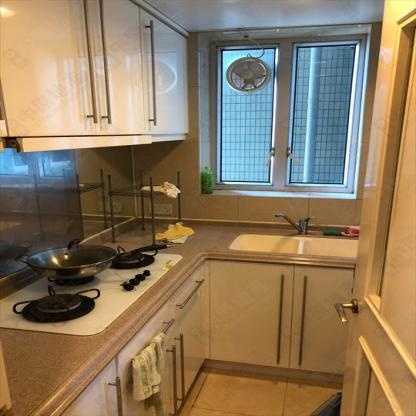Cupboard: (56, 259, 359, 413), (2, 1, 190, 137)
Exhaust Fan: (227, 57, 269, 92)
Faucet: (271, 206, 318, 234)
Sink: (227, 232, 359, 260)
Stove: (0, 251, 184, 334)
